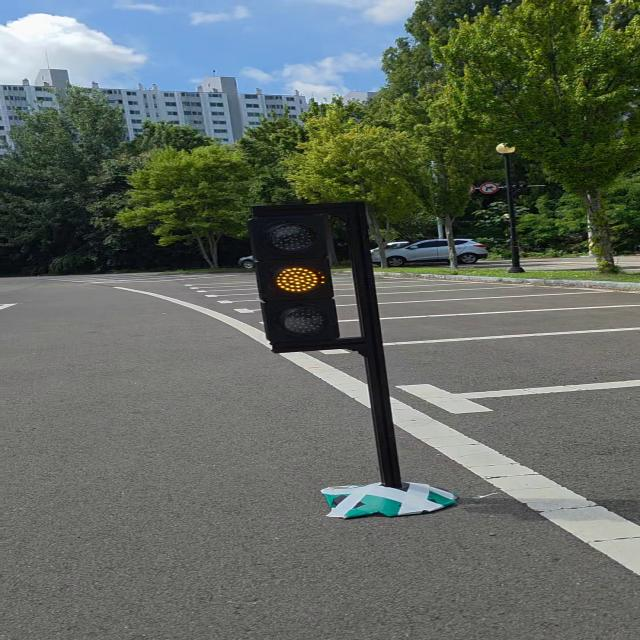yellow: (242, 206, 351, 354)
